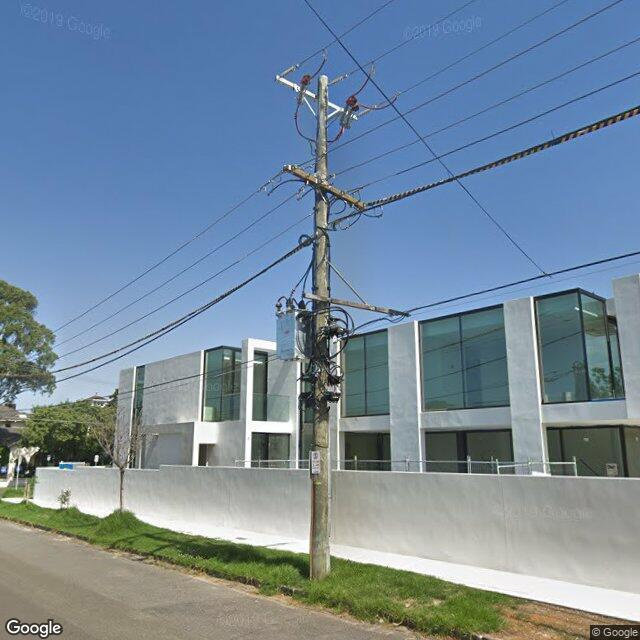HV-transmission: (279, 61, 377, 118)
crossarm: (275, 75, 358, 122), (284, 165, 365, 209), (303, 292, 393, 315)
timber-pole: (310, 74, 330, 582)
transformer: (276, 296, 312, 361)
